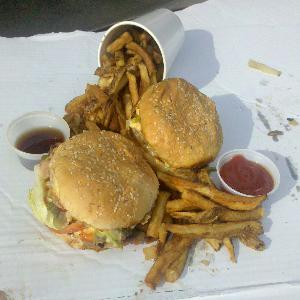cheeseburger: (27, 129, 161, 247), (130, 86, 226, 169)
fries: (158, 171, 268, 282)
